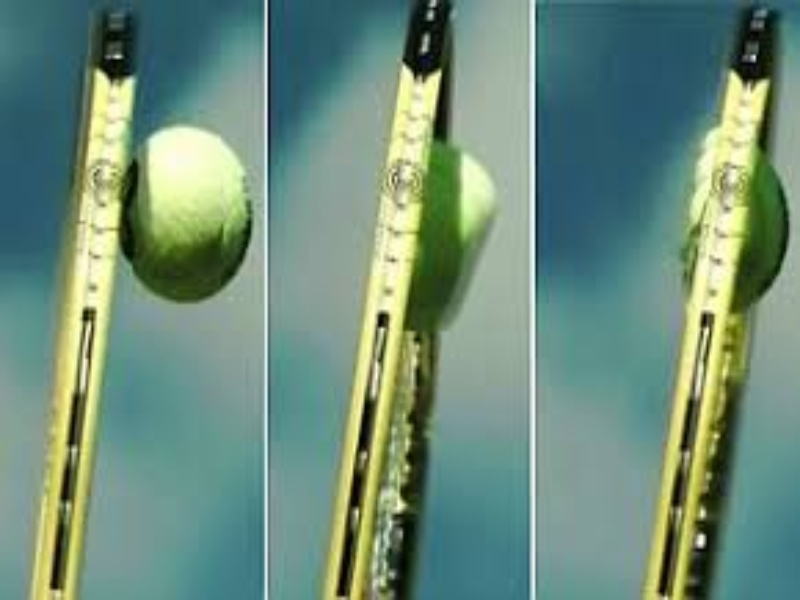tennis ball: (124, 124, 256, 312)
